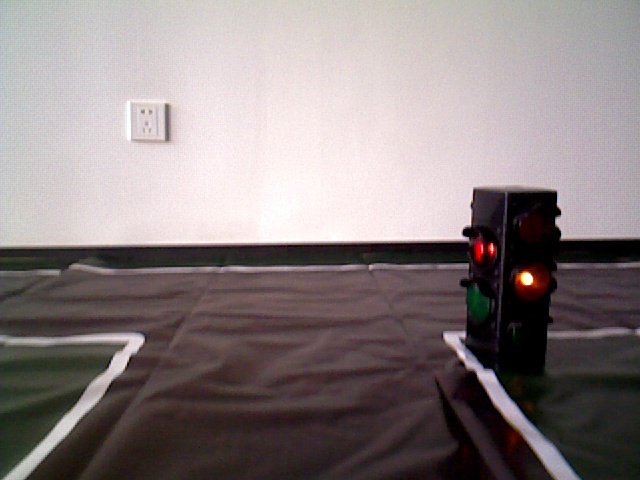yellow: (470, 191, 551, 365)
